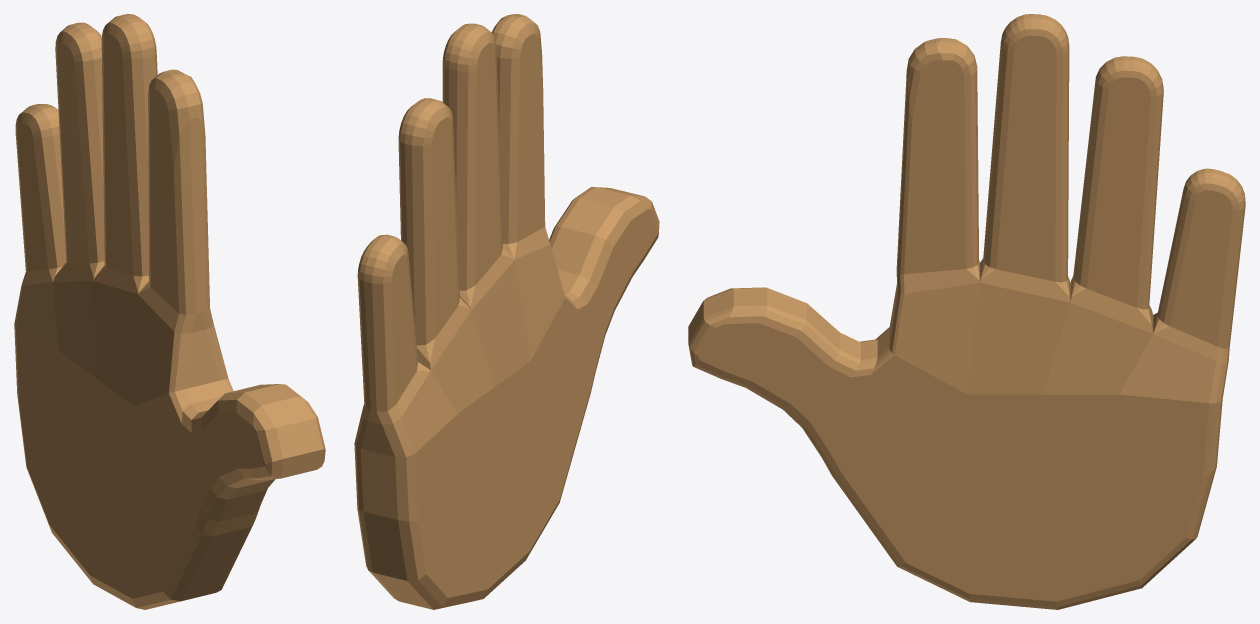
File: Hand Icon.fbx
3 renders of one model, left to right at view 1: azimuth 30°, elevation 25°; view 2: azimuth 150°, elevation 25°; view 3: azimuth 270°, elevation 25°, orthographic. The views are drawn at different scales.
Visible parts, largest first — view 1: Cube; view 2: Cube; view 3: Cube.
Boxes of the visible parts, <box> form: Cube: <box>14,14,325,609</box>; Cube: <box>354,14,659,609</box>; Cube: <box>688,14,1245,609</box>.
Size of the model in its own units: 45.75 by 423 by 366.
